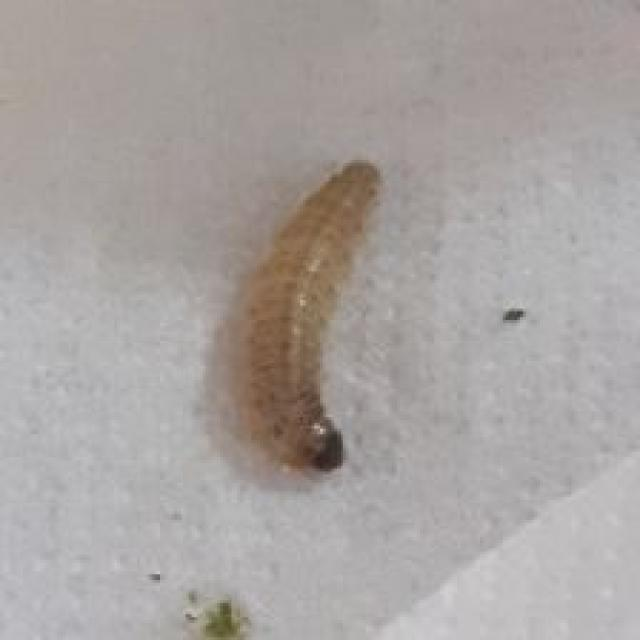white mucus: (219, 144, 423, 502)
